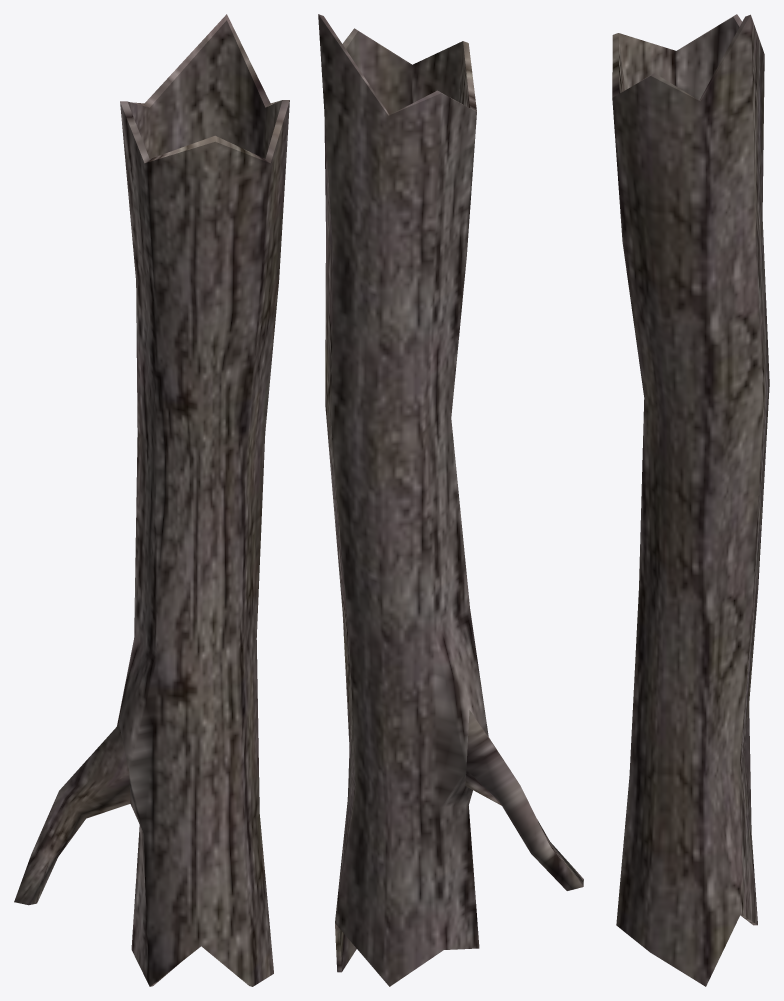
File: Tree08.glb
The picture shows the model from 3 angles, left to right: view 1: azimuth 30°, elevation 25°; view 2: azimuth 150°, elevation 25°; view 3: azimuth 270°, elevation 25°; orthographic projection. The views are drawn at different scales.
Parts seen in each view (by area): view 1: model_Tree08; view 2: model_Tree08; view 3: model_Tree08.
Part boxes in pixels (left/top/right/bottom): model_Tree08: left=14, top=14, right=289, bottom=986; model_Tree08: left=318, top=14, right=583, bottom=986; model_Tree08: left=612, top=14, right=769, bottom=986.
Bounding box in the file's own units: 1.67 × 5.96 × 0.8755.
1 material, 1 textured.
